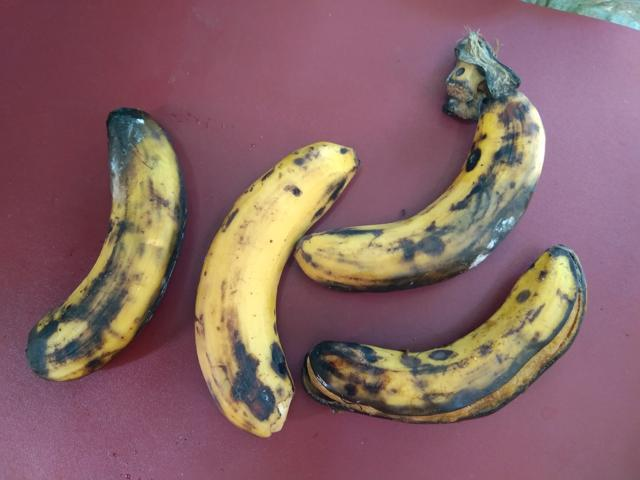overripe: (168, 131, 371, 457)
rotten: (307, 235, 601, 442), (281, 89, 545, 306), (21, 96, 202, 406)
